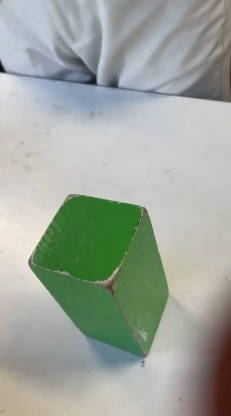green: (27, 173, 166, 368)
